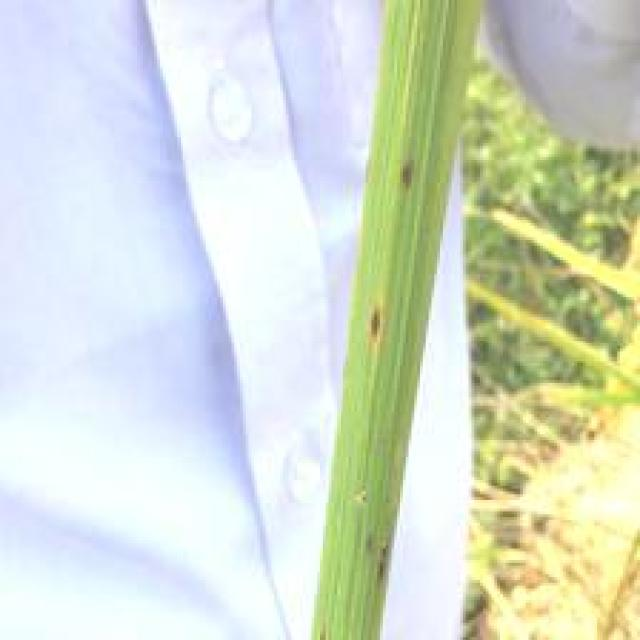Brown_Spot: (360, 514, 389, 586), (388, 143, 423, 197), (357, 286, 386, 351)
